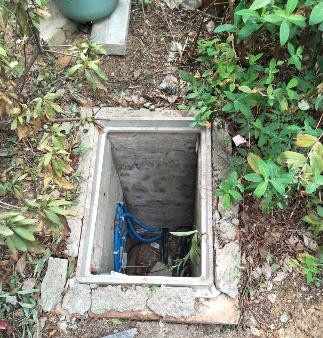lose: (77, 117, 217, 285)
